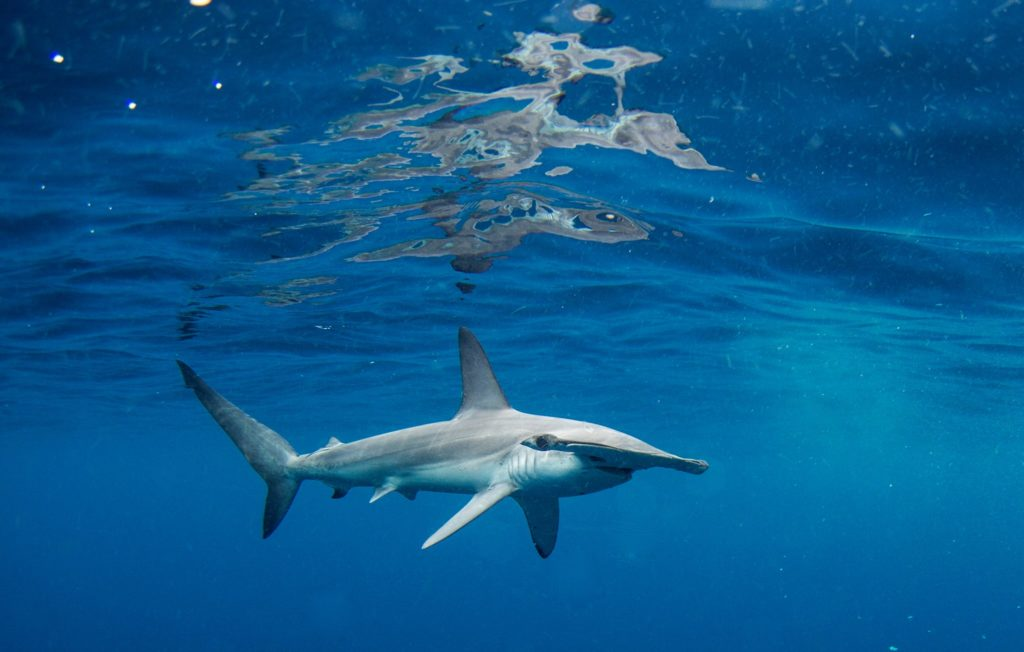Hammer: (145, 309, 789, 612), (304, 201, 562, 314)
